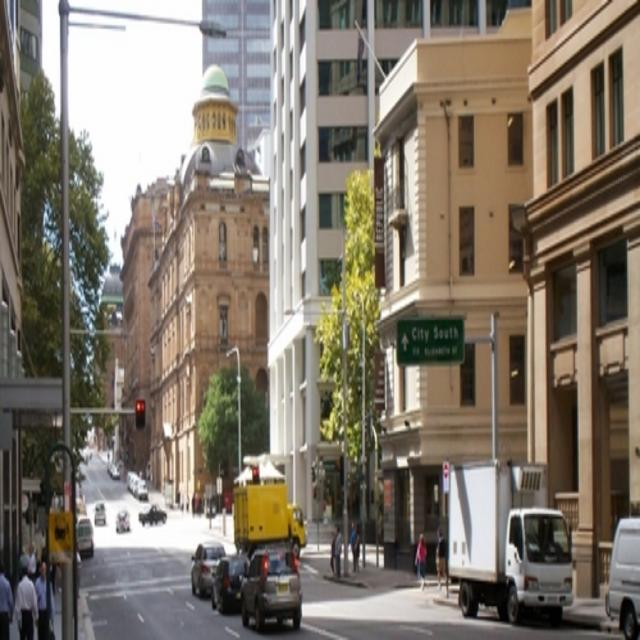car: (91, 497, 107, 522), (117, 507, 129, 529)
